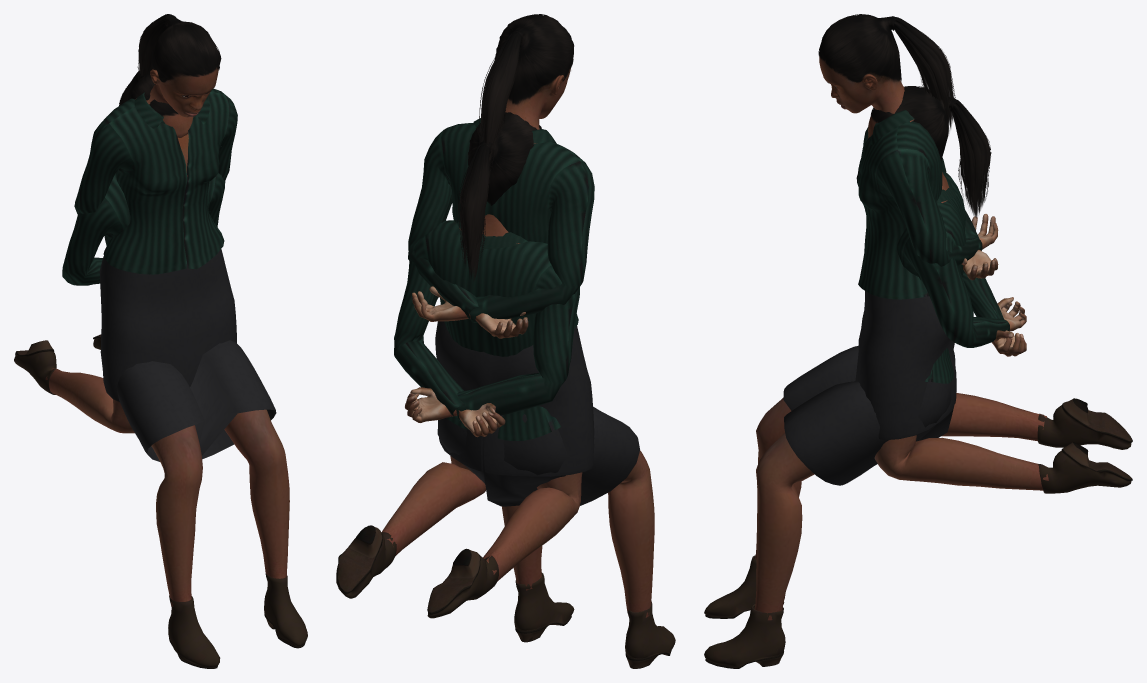
The model's file is civ_frau2_geisel.glb.
The picture shows the model from 3 angles, left to right: view 1: azimuth 30°, elevation 25°; view 2: azimuth 150°, elevation 25°; view 3: azimuth 270°, elevation 25°; orthographic projection. The views are drawn at different scales.
Parts seen in each view (by area): view 1: kneel, bound_seat; view 2: kneel, bound_seat; view 3: kneel, bound_seat.
Part boxes in pixels (x1,y1,x2,y2): kneel: [14, 14, 237, 433]; bound_seat: [62, 71, 307, 668]; kneel: [336, 14, 594, 618]; bound_seat: [394, 112, 675, 668]; kneel: [818, 14, 1132, 493]; bound_seat: [704, 86, 1026, 668].
Size of the model in its own units: 0.4017 by 1.51 by 0.9459.
7 materials, 7 textured.
